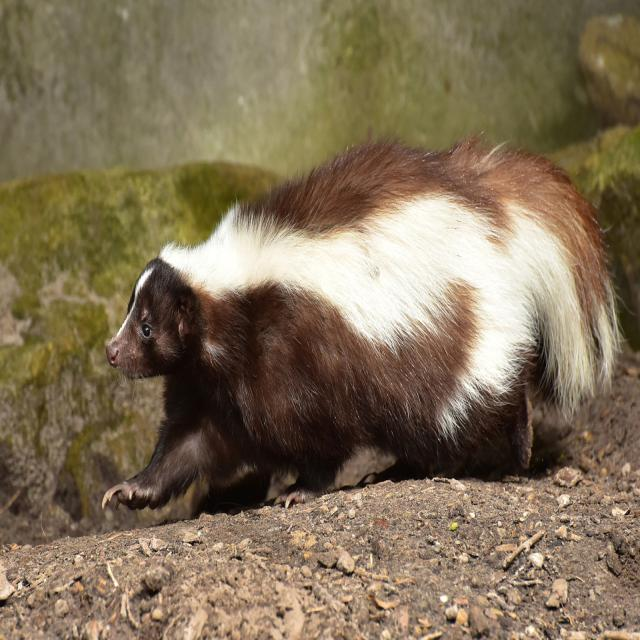Skunk: (101, 91, 612, 544)
